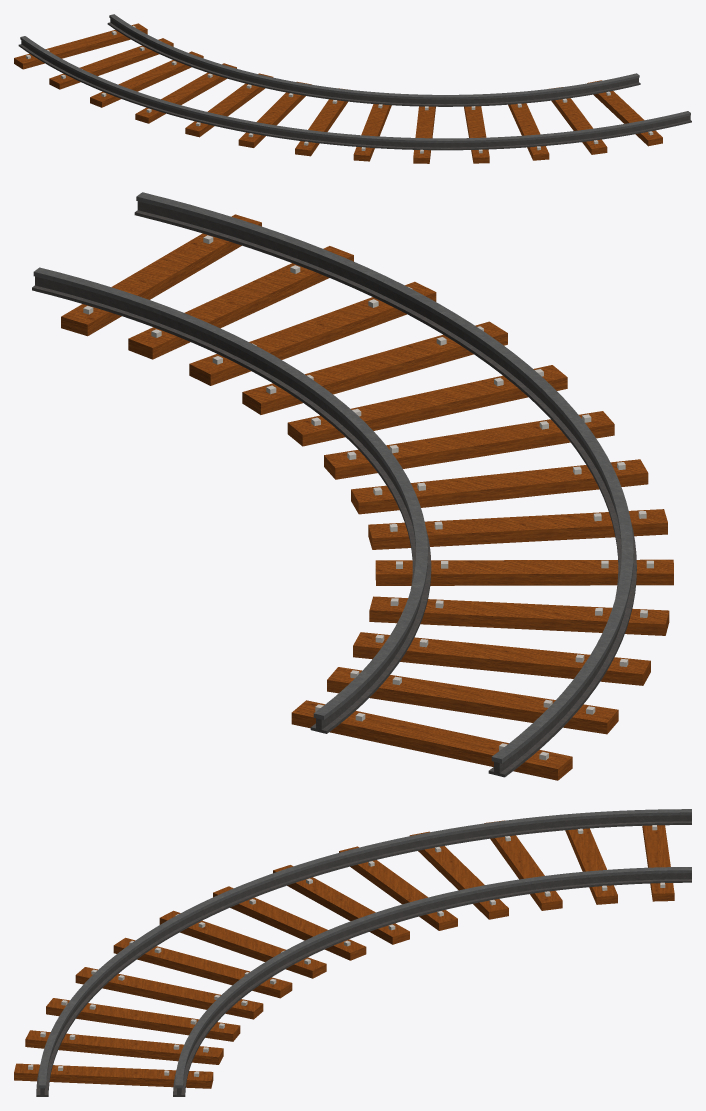
The model's file is rail_curve_large.gltf.
3 views of the same model, one above another, from view 1: azimuth 30°, elevation 25°; view 2: azimuth 150°, elevation 25°; view 3: azimuth 270°, elevation 25° (orthographic). The views are drawn at different scales.
Bounding box in the file's own units: 9.94 × 0.3125 × 9.92.
4 materials, 3 textured.
